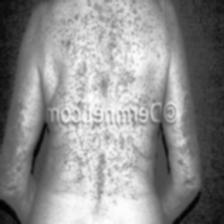Non-Cancerous Skin Condition: (54, 0, 147, 104), (42, 136, 142, 210), (0, 100, 32, 188), (168, 102, 198, 176)
